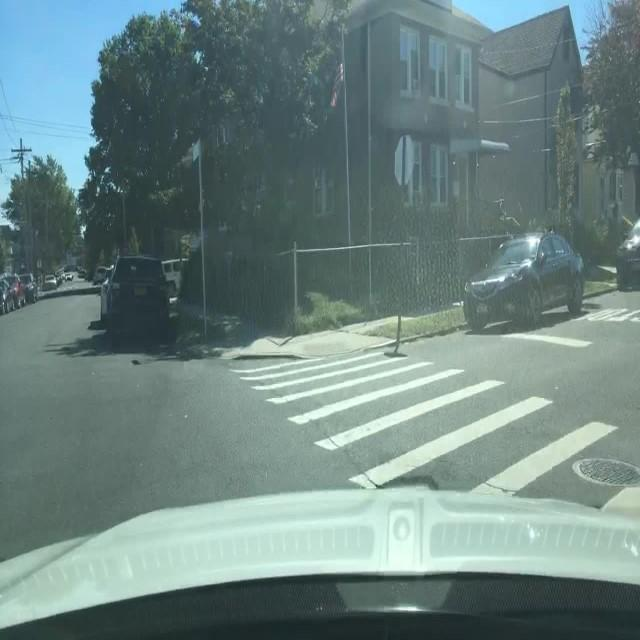normal: (450, 216, 594, 342), (76, 246, 195, 343)
